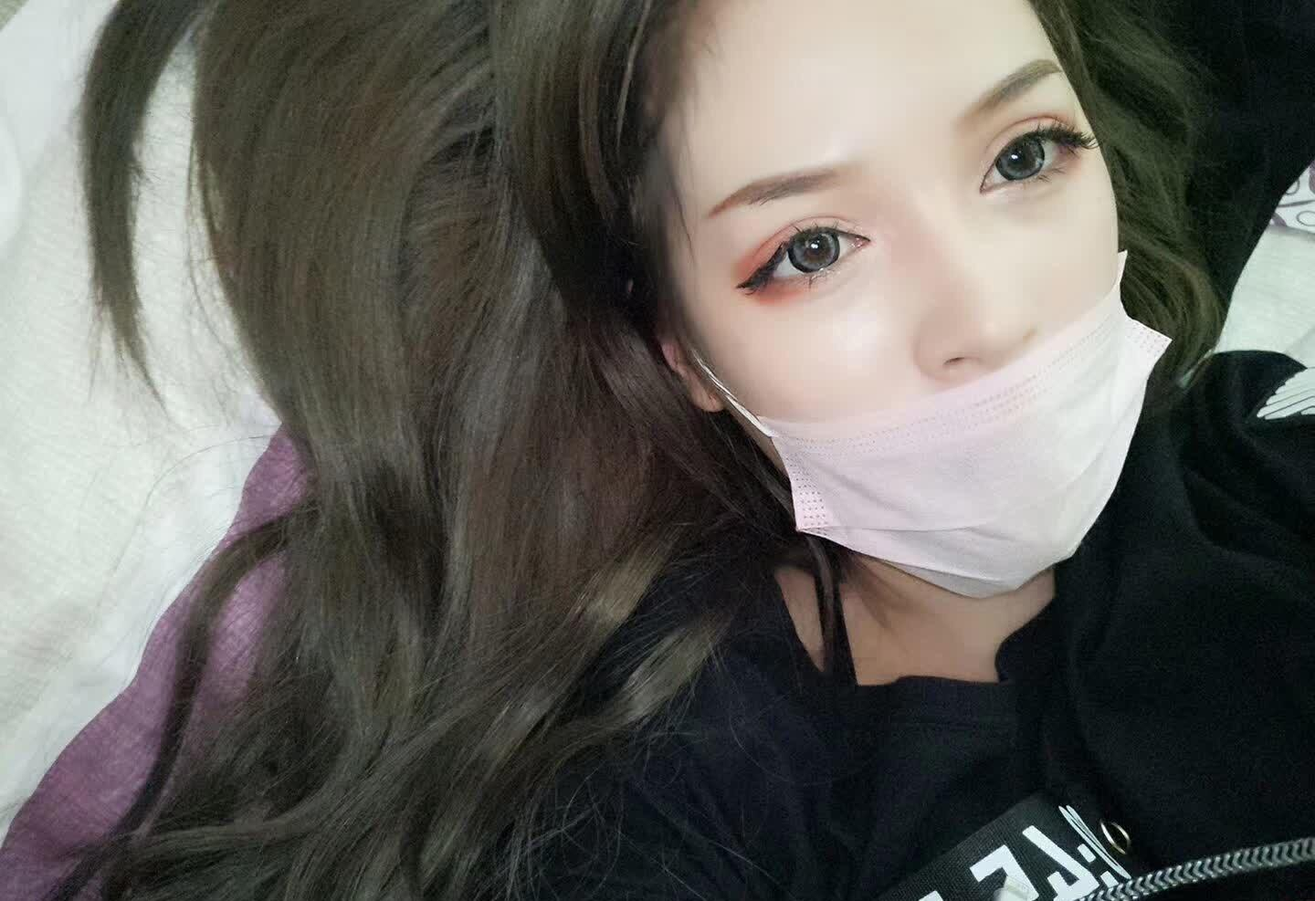WRONG: (647, 67, 1157, 576)
